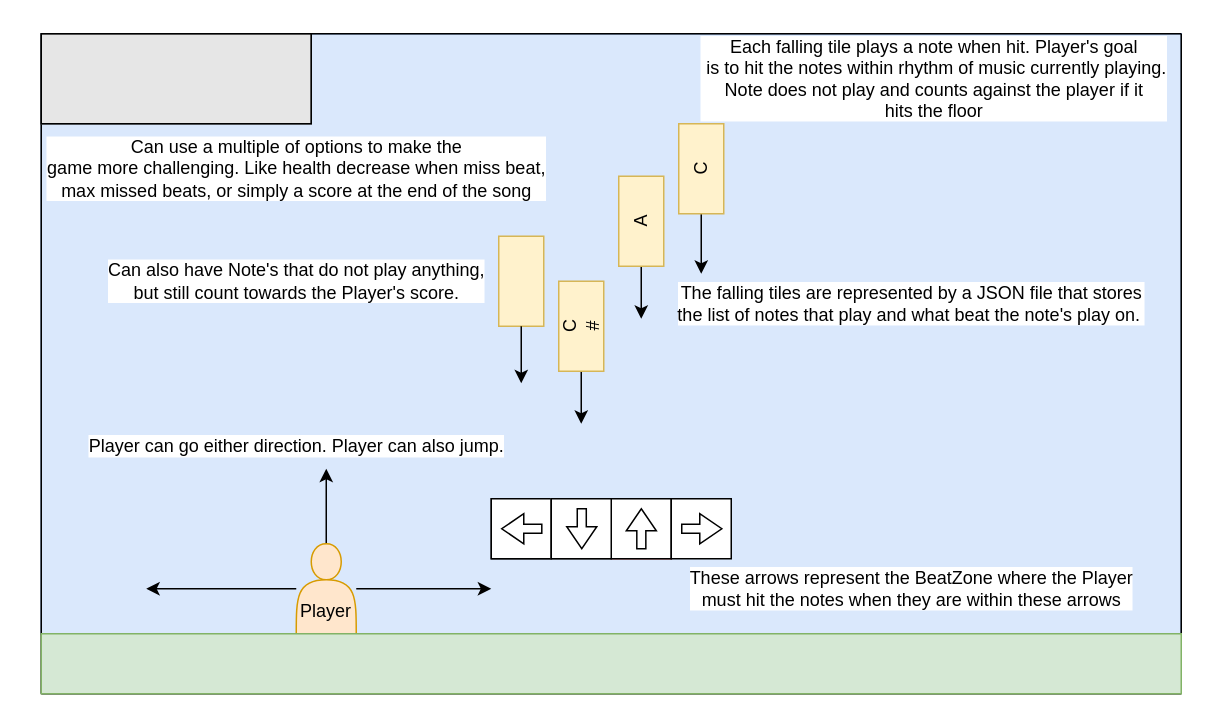
Image size: 1209x722. Some labels were removed from this diagram. Each missing label, with the box of its shape:
FLOOR: (40, 632, 1181, 694)
HEALTH: 98 NUM OF MISSED BEATS: 2 Time Left: 1:28: (40, 32, 311, 124)
